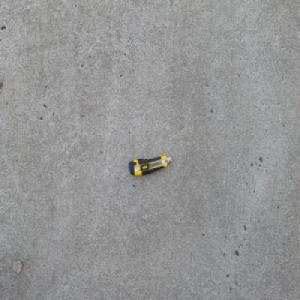Cutter: (127, 155, 172, 176)
